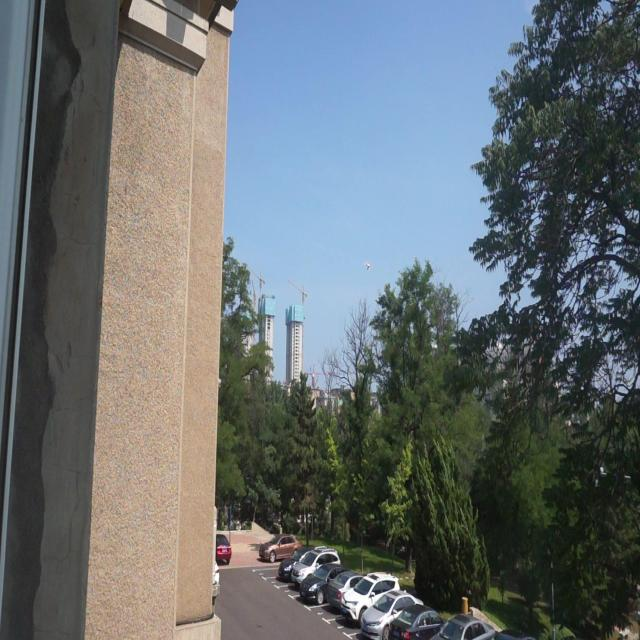drone: (361, 257, 374, 273)
